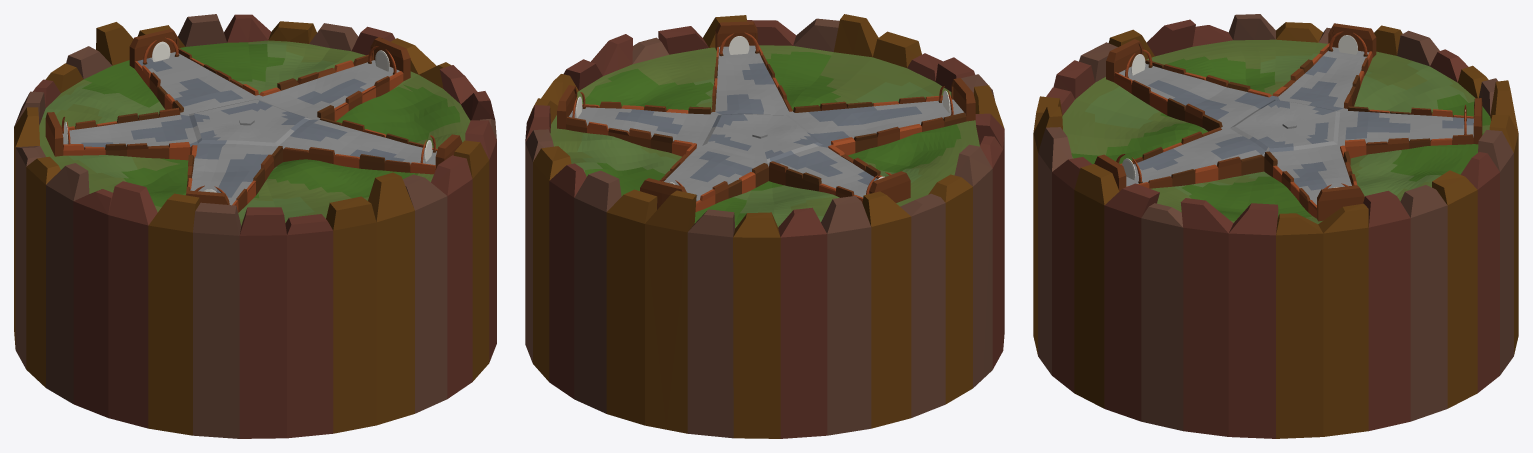
File: F_centralArea.fbx
3 renders of one model, left to right at view 1: azimuth 30°, elevation 25°; view 2: azimuth 150°, elevation 25°; view 3: azimuth 270°, elevation 25°, orthographic.
Visible parts, largest first — view 1: Cube.001, Cube, Circle; view 2: Cube.001, Cube, Circle.004; view 3: Cube.001, Cube, Circle.002.
Part boxes in pixels (x1=…): Cube.001: x1=14, y1=14, x2=496, y2=438; Cube: x1=45, y1=28, x2=462, y2=212; Circle: x1=143, y1=37, x2=179, y2=64; Cube.001: x1=525, y1=14, x2=1004, y2=438; Cube: x1=557, y1=21, x2=975, y2=212; Circle.004: x1=719, y1=32, x2=759, y2=56; Cube.001: x1=1033, y1=14, x2=1518, y2=438; Cube: x1=1094, y1=23, x2=1482, y2=221; Circle.002: x1=1328, y1=31, x2=1367, y2=56.
Size of the model in its own units: 432 by 243 by 432.
